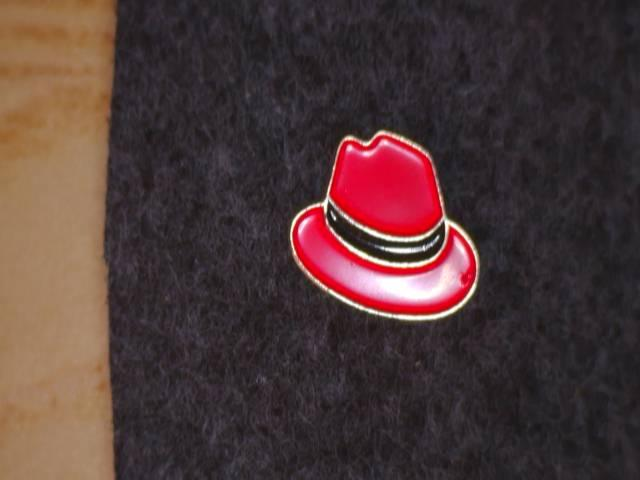Red-Hat: (277, 106, 536, 359)
